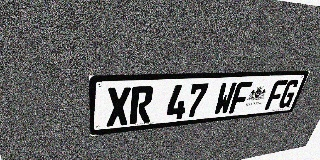4: (165, 84, 190, 121)
7: (184, 83, 209, 119)
F: (228, 81, 253, 114), (264, 80, 288, 110)
G: (277, 79, 301, 109)
R: (129, 86, 154, 124)
W: (213, 82, 237, 115)
X: (107, 87, 131, 127)
